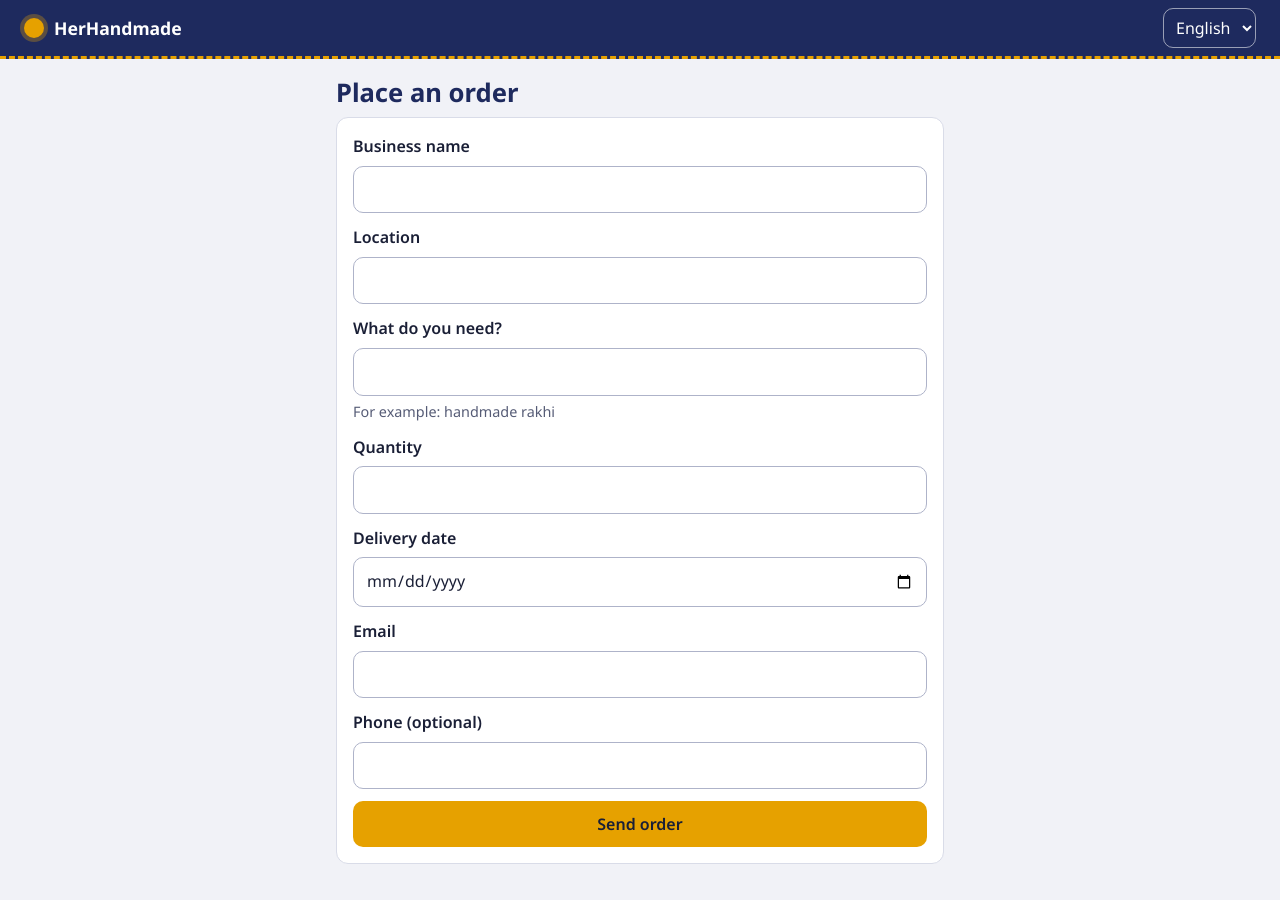
Test: a retry after a failed attempt sends the SAME idempotency key
Type "A" into the field labelled "Business name" at (640, 189), box 353,166 -> 927,213
Type "B" into the field labelled "Location" at (640, 281), box 353,257 -> 927,304
Type "C" into the field labelled "What do you need?" at (640, 372), box 353,348 -> 927,396
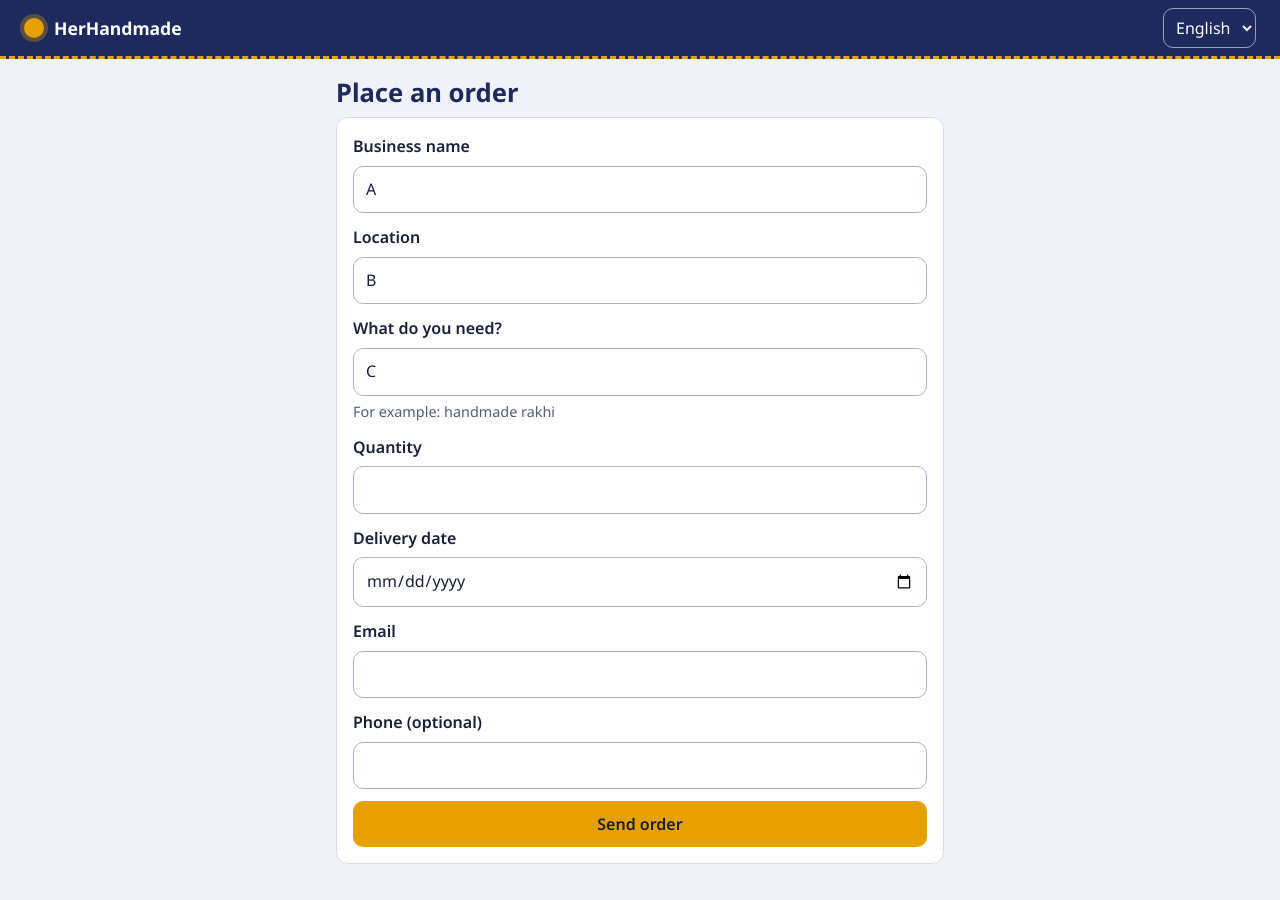
Type "5" into the number field labelled "Quantity" at (640, 490), box 353,466 -> 927,514
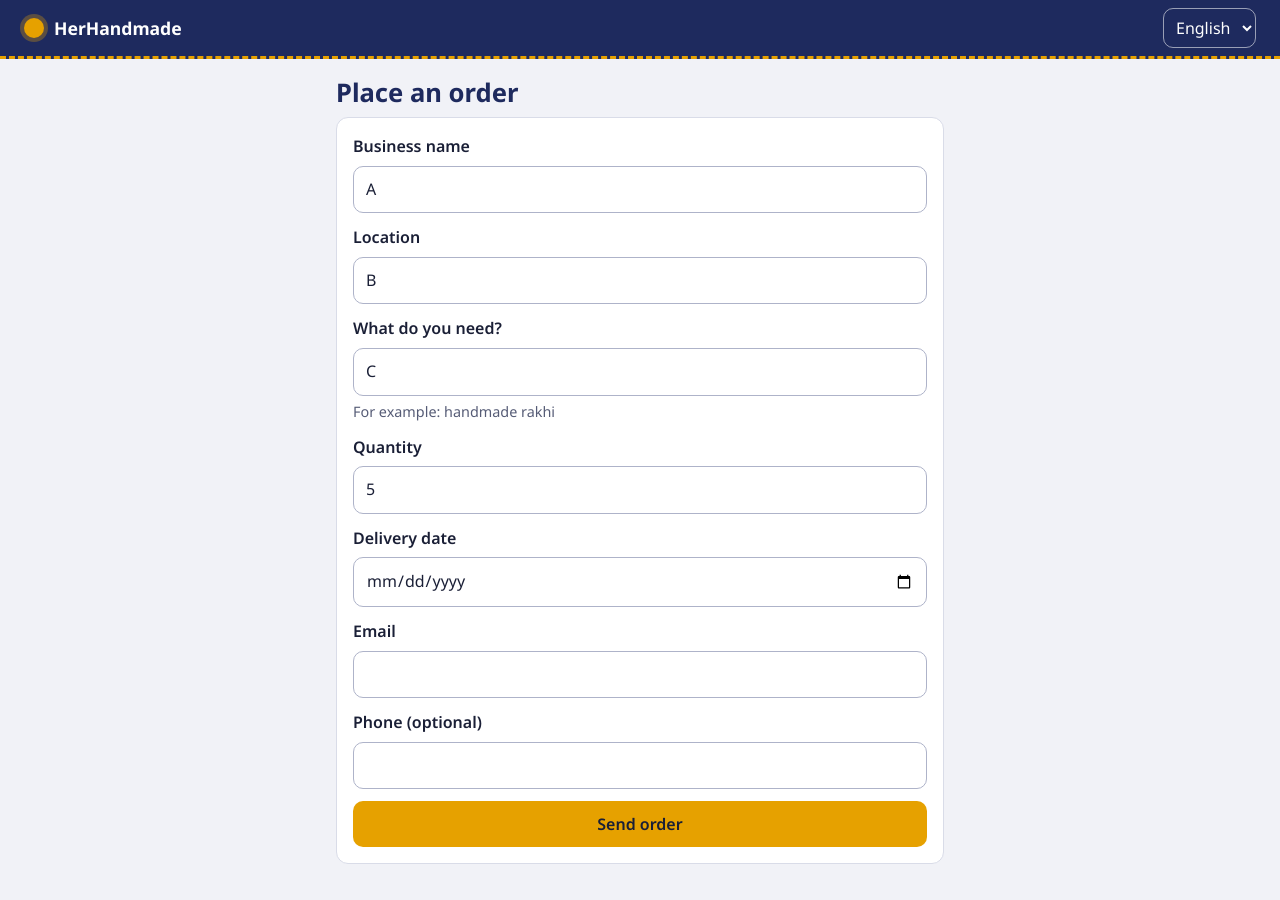
Type "2099-01-01" into the date field labelled "Delivery date" at (640, 582), box 353,557 -> 927,607
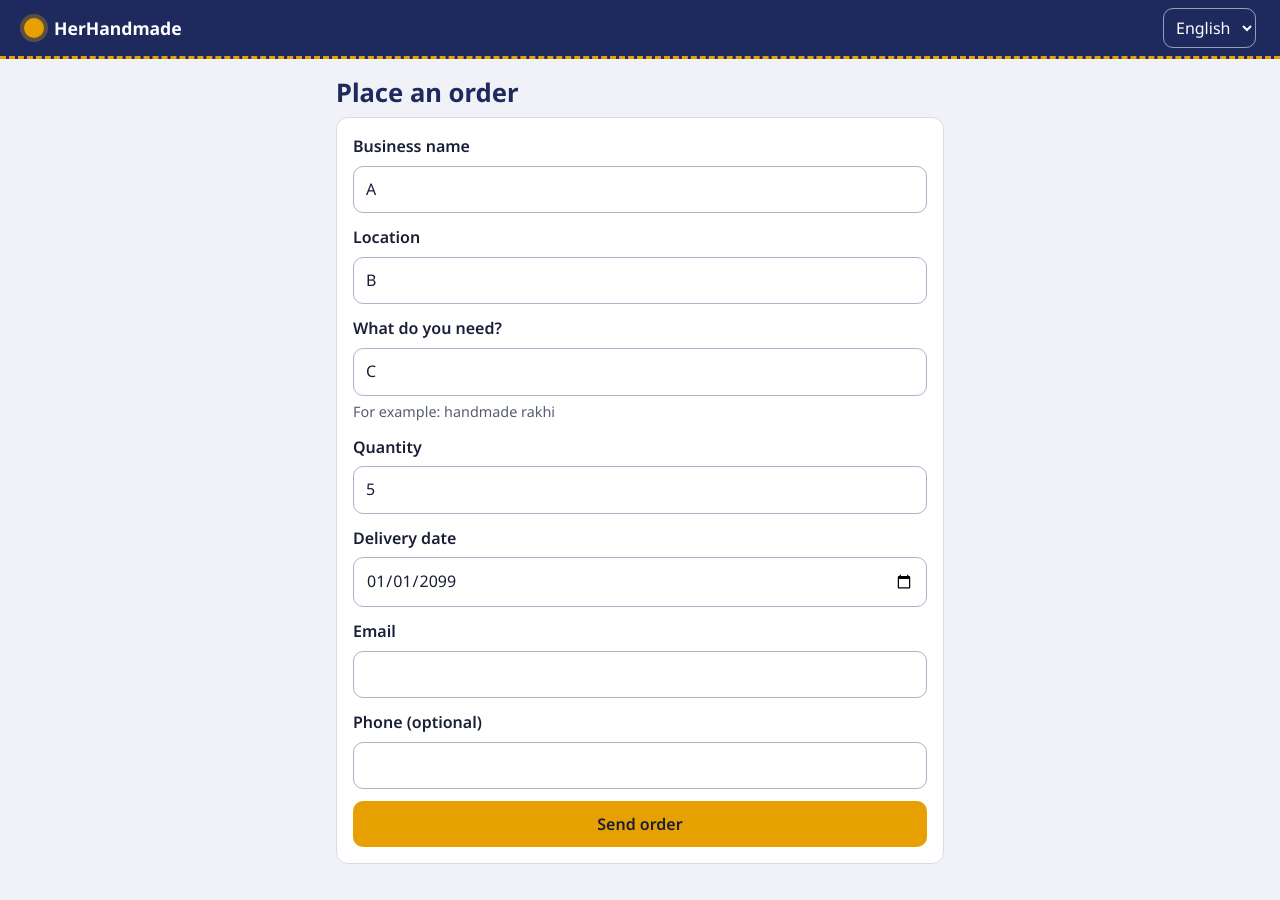
Type "a@b.co" into the field labelled "Email" at (640, 674), box 353,651 -> 927,698
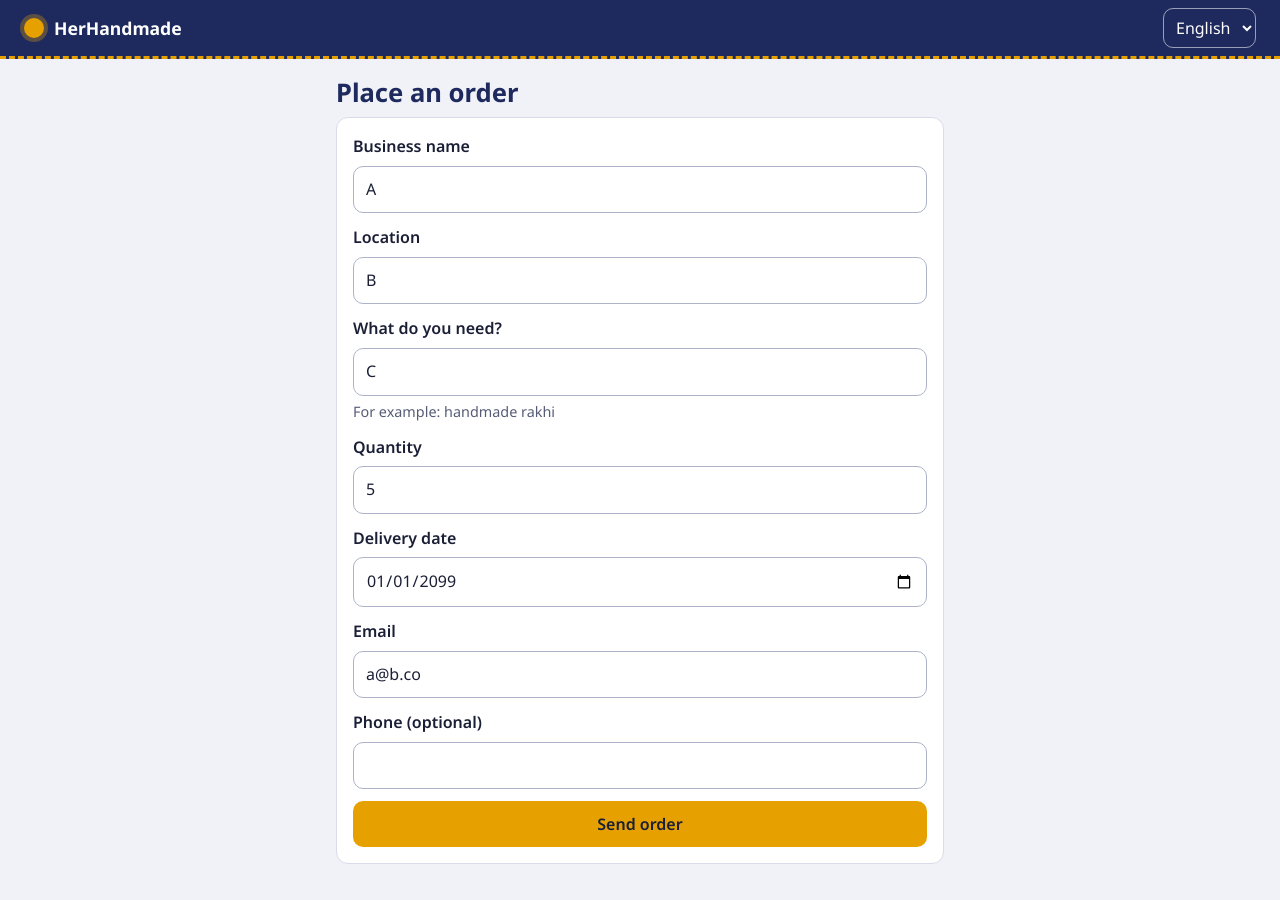
Click the button "Send order" at (640, 824), box 353,801 -> 927,847
(page scrolled)
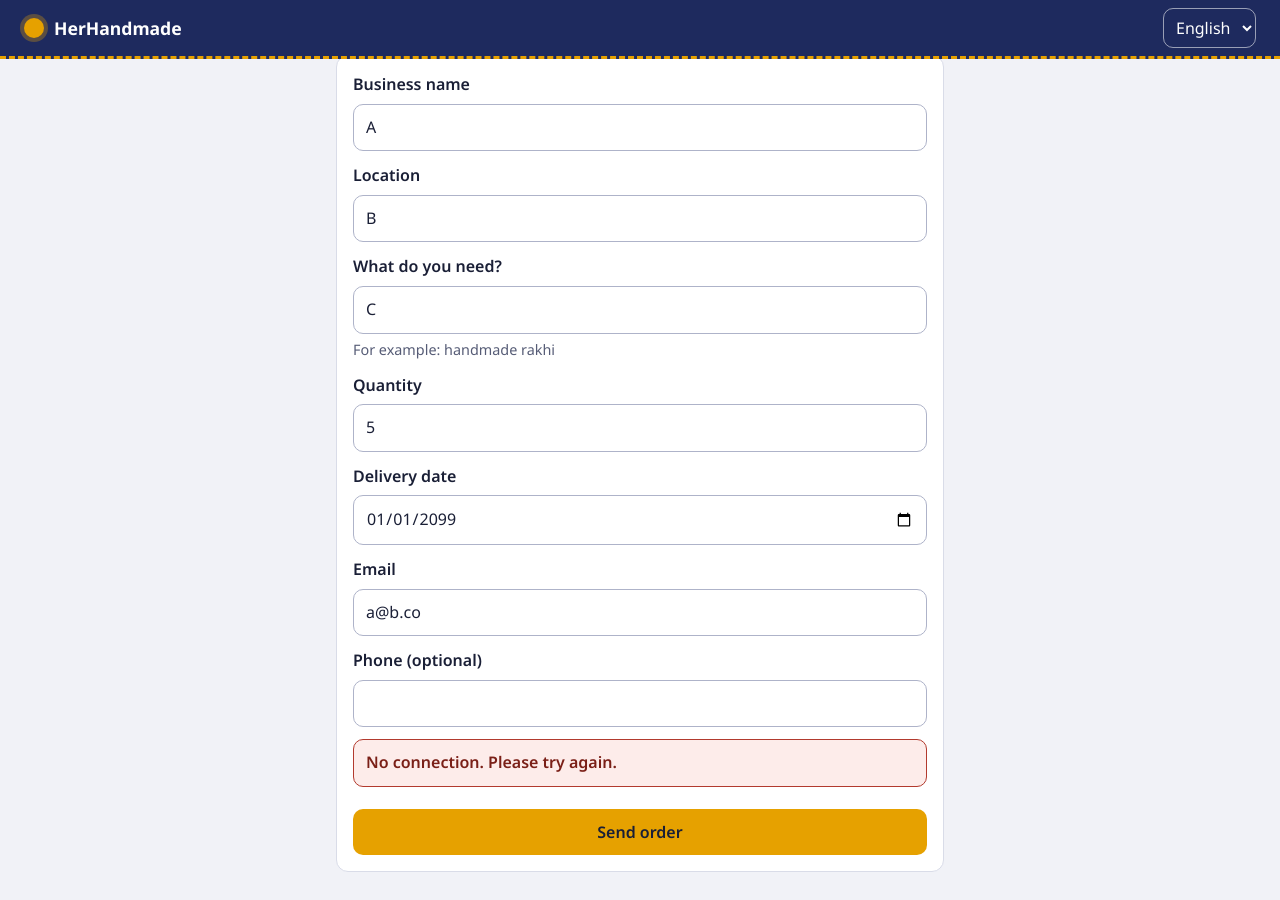
Now the message "No connection. Please try again." is shown, box 353,739 -> 927,787
Click the button "Send order" at (640, 832), box 353,809 -> 927,855
(page scrolled)
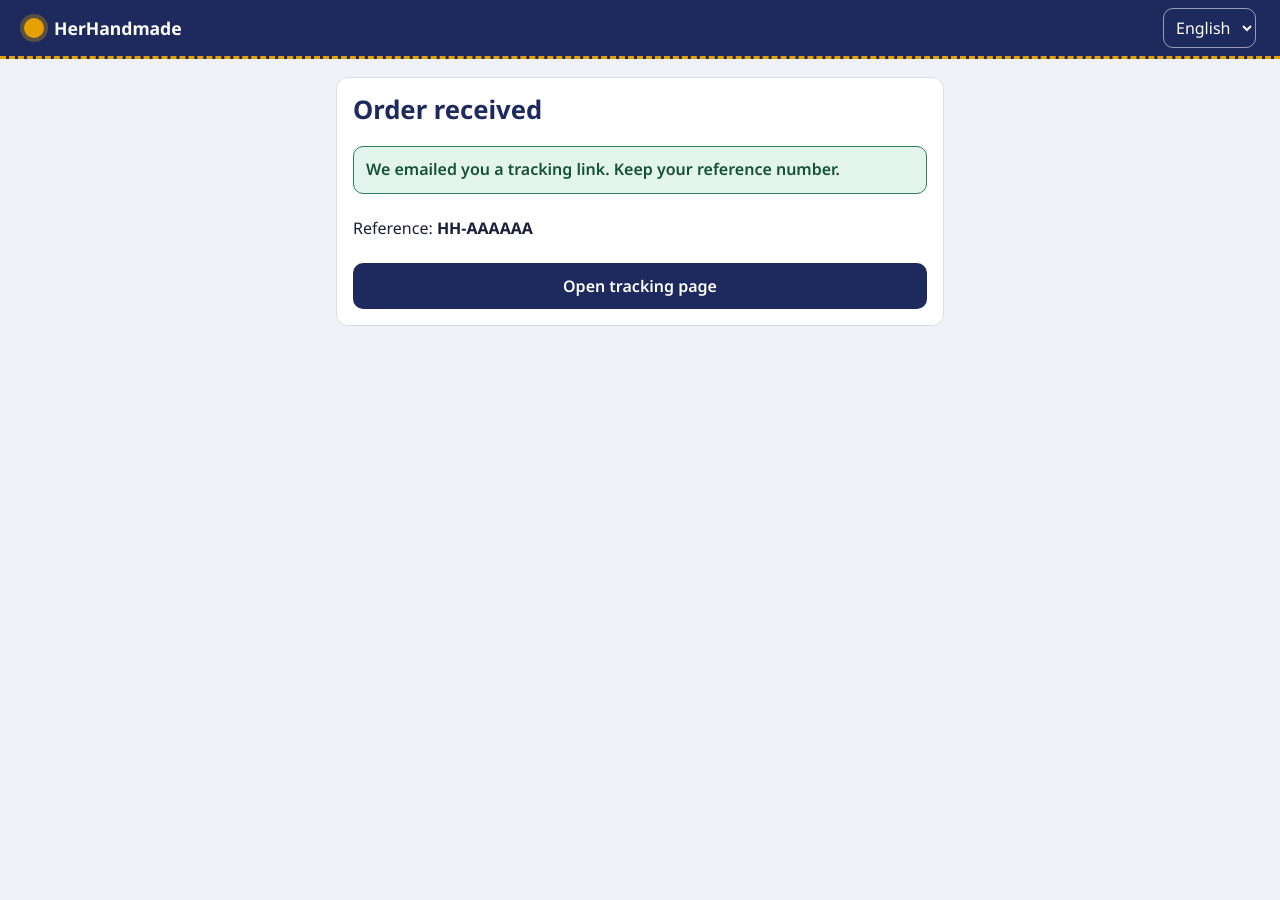
Now the text "HH-AAAAAA" is shown, box 437,217 -> 533,239
